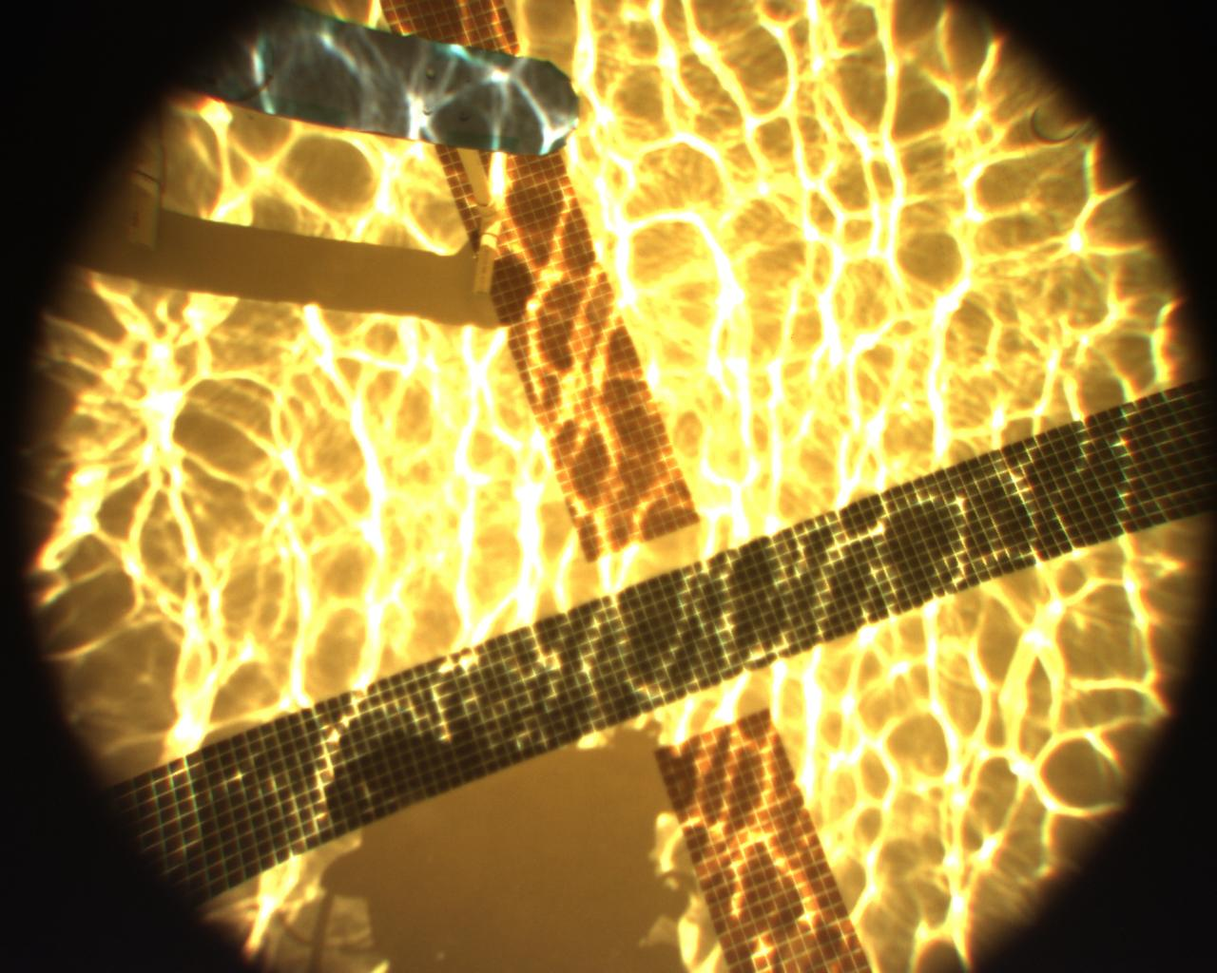path: (11, 0, 582, 310)
